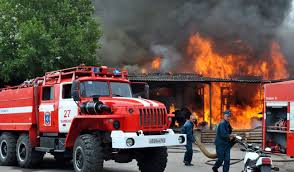fire: (162, 37, 288, 118)
